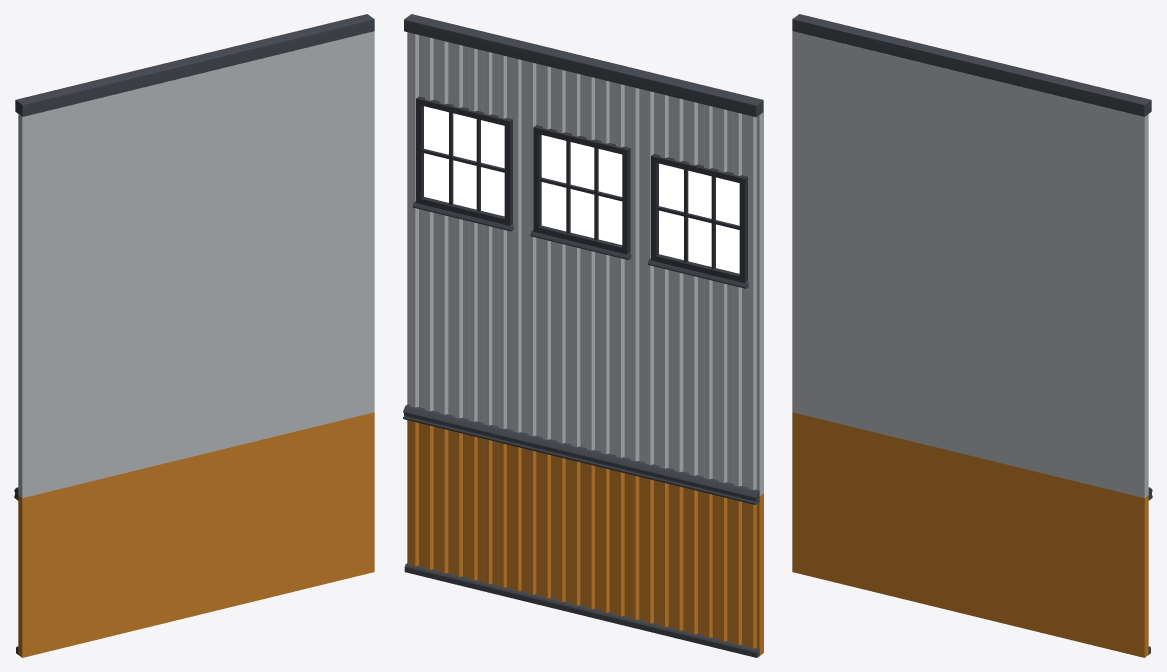
The model's file is wall_bay.glb.
3 views of the same model, side by side, from view 1: azimuth 30°, elevation 25°; view 2: azimuth 150°, elevation 25°; view 3: azimuth 330°, elevation 25° (orthographic).
Parts seen in each view (by area): view 1: WallBay; view 2: WallBay; view 3: WallBay.
Boxes of the visible parts, bbox=[...] form: WallBay: bbox=[14, 14, 374, 657]; WallBay: bbox=[403, 14, 763, 657]; WallBay: bbox=[792, 14, 1152, 657].
Bounding box in the file's own units: 6 × 9 × 0.25.
